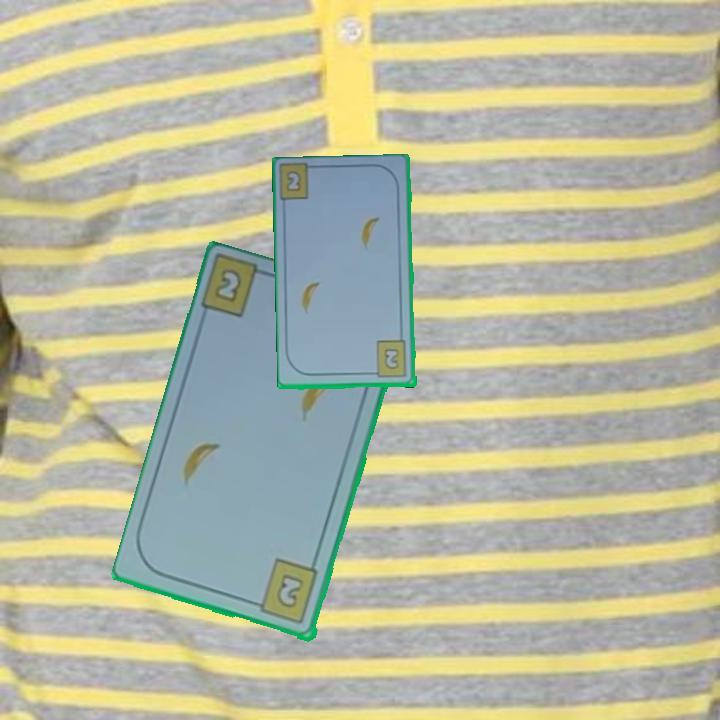2b: (248, 556, 321, 627), (368, 338, 409, 380), (211, 268, 245, 306), (283, 167, 304, 195)
